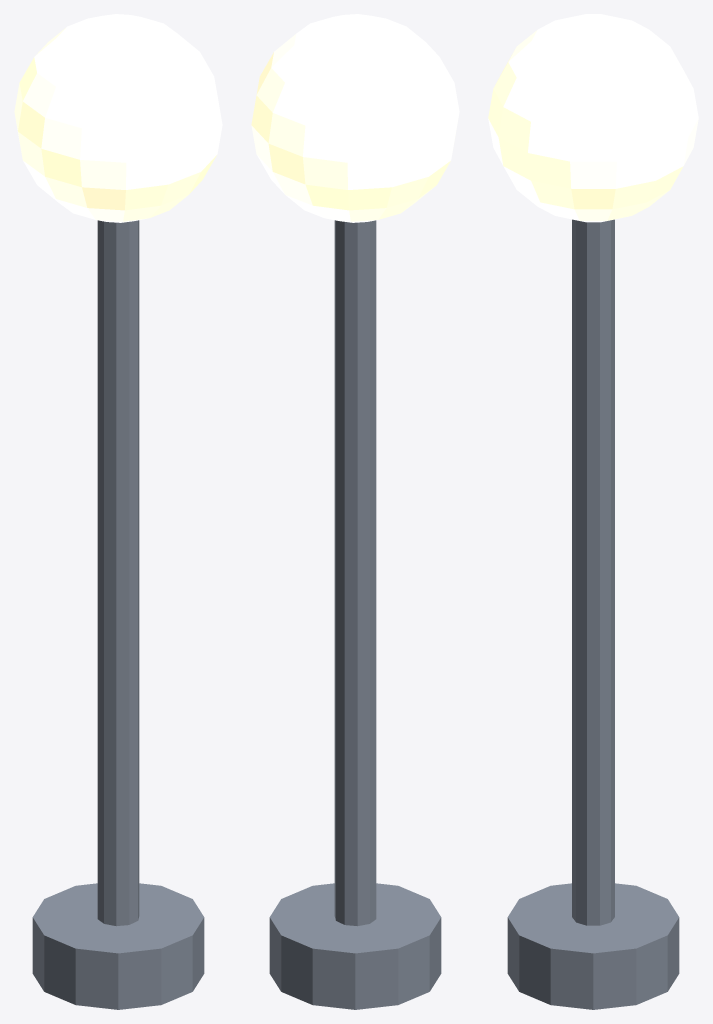
File: lamp.glb
The picture shows the model from 3 angles, left to right: view 1: azimuth 30°, elevation 25°; view 2: azimuth 150°, elevation 25°; view 3: azimuth 270°, elevation 25°; orthographic projection.
Parts seen in each view (by area): view 1: LampPole, LampHead; view 2: LampPole, LampHead; view 3: LampPole, LampHead.
Boxes of the visible parts, x1=… form: LampPole: x1=32, y1=220, x2=204, y2=1009; LampHead: x1=14, y1=14, x2=222, y2=222; LampPole: x1=269, y1=220, x2=441, y2=1009; LampHead: x1=251, y1=14, x2=459, y2=222; LampPole: x1=507, y1=219, x2=679, y2=1009; LampHead: x1=488, y1=14, x2=698, y2=222.
Bounding box in the file's own units: 0.5265 × 2.69 × 0.54.
